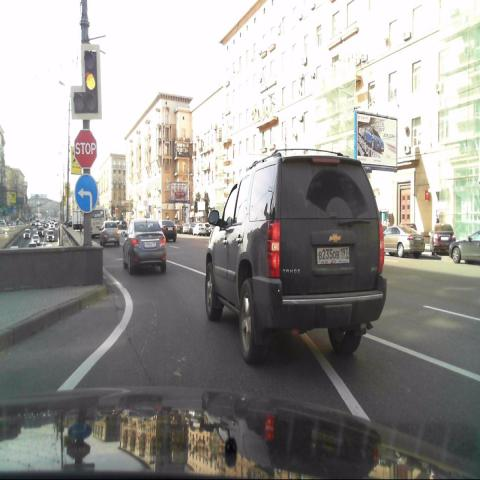2_5: (74, 128, 98, 171)
4_1_3: (74, 174, 98, 216)
